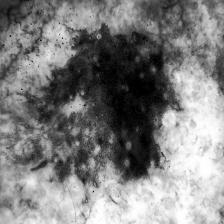Benign Marking or Mole: (47, 28, 178, 189)
